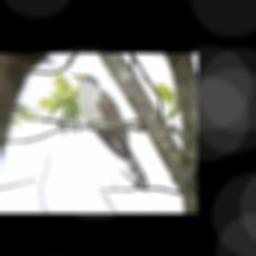Cuckoo: (69, 73, 147, 187)
